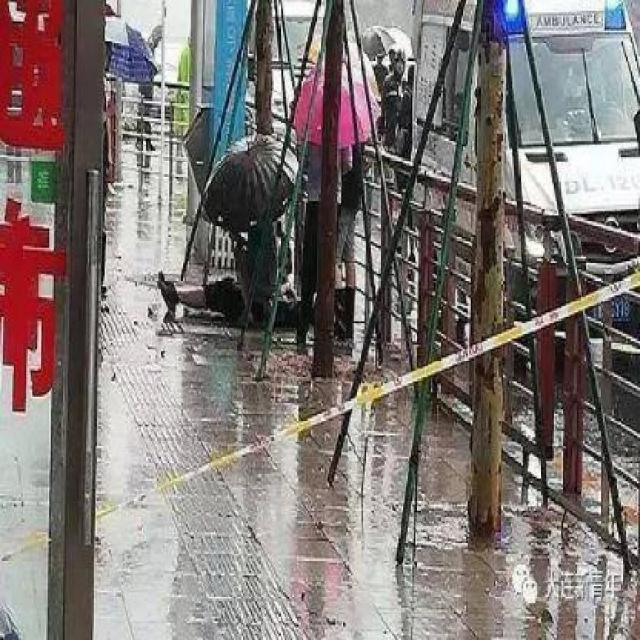fall: (144, 249, 307, 336)
